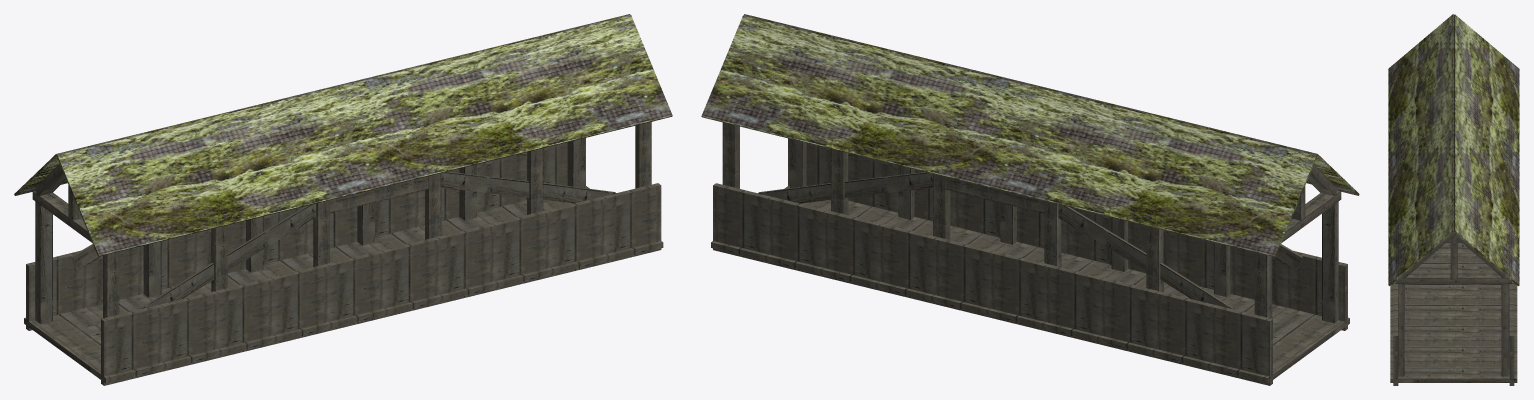
Rendered from bridge_wood_02_LOD.fbx.
3 views of the same model, side by side, from view 1: azimuth 30°, elevation 25°; view 2: azimuth 150°, elevation 25°; view 3: azimuth 270°, elevation 25° (orthographic). The views are drawn at different scales.
Parts seen in each view (by area): view 1: Mesh Object; view 2: Mesh Object; view 3: Mesh Object.
Boxes of the visible parts, x1=… form: Mesh Object: x1=14, y1=14, x2=672, y2=385; Mesh Object: x1=701, y1=14, x2=1359, y2=385; Mesh Object: x1=1388, y1=14, x2=1519, y2=385.
Size of the model in its own units: 9.27 by 3.17 by 2.37.
